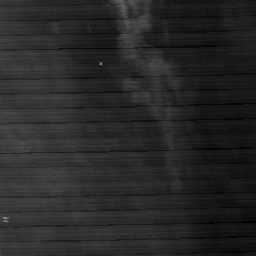Target: (97, 60, 104, 66)
